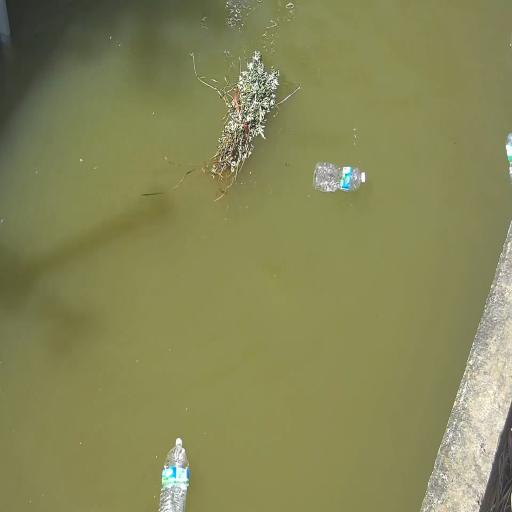plastic: (159, 438, 189, 511), (314, 163, 365, 191), (506, 133, 511, 180)
twig: (190, 51, 282, 196)
